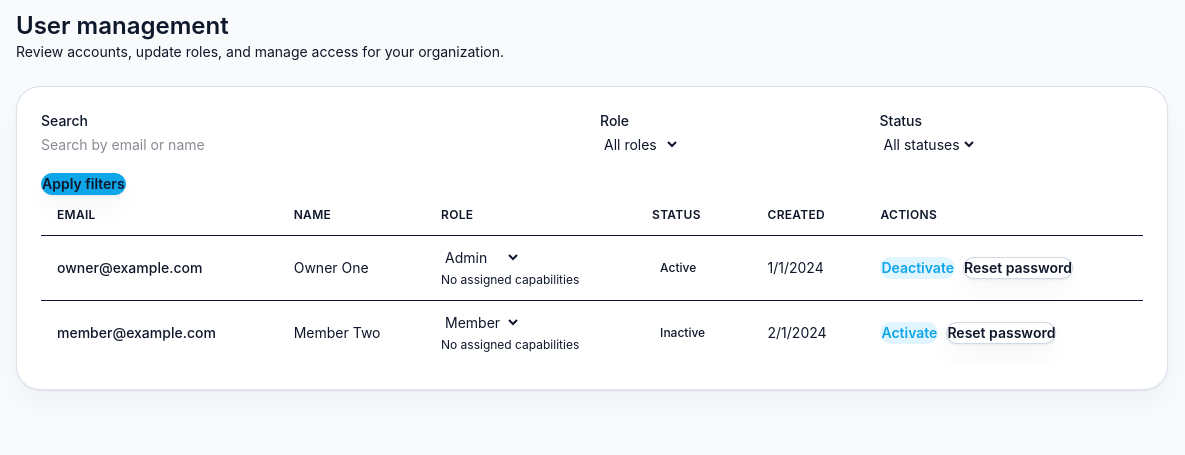
admin users page › resets a user password and surfaces the temporary credential
Click the button "Reset password" in the row of "member@example.com": (1001, 333) [946,322,1056,344]
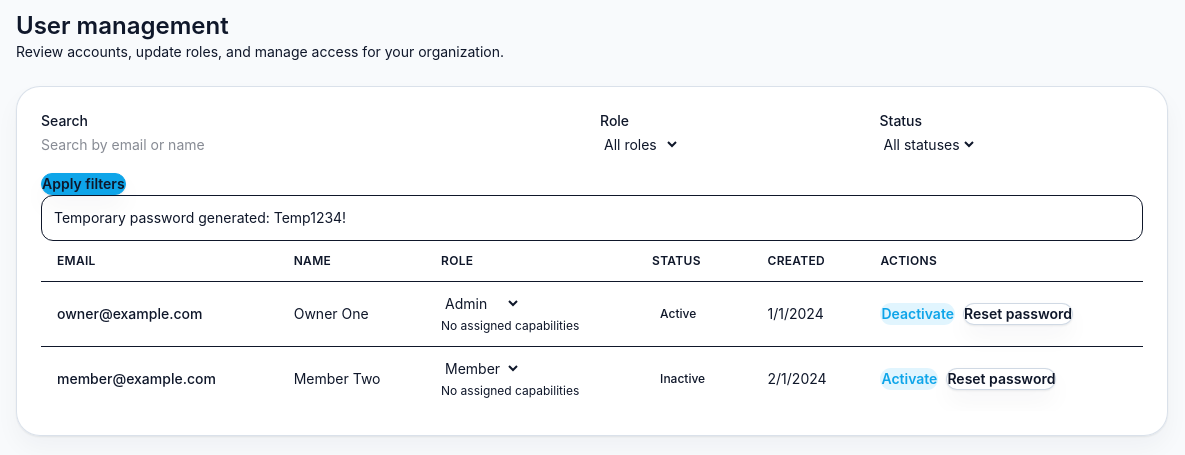
expect the message shows "Temp1234!": met, box [54,209,346,226]
